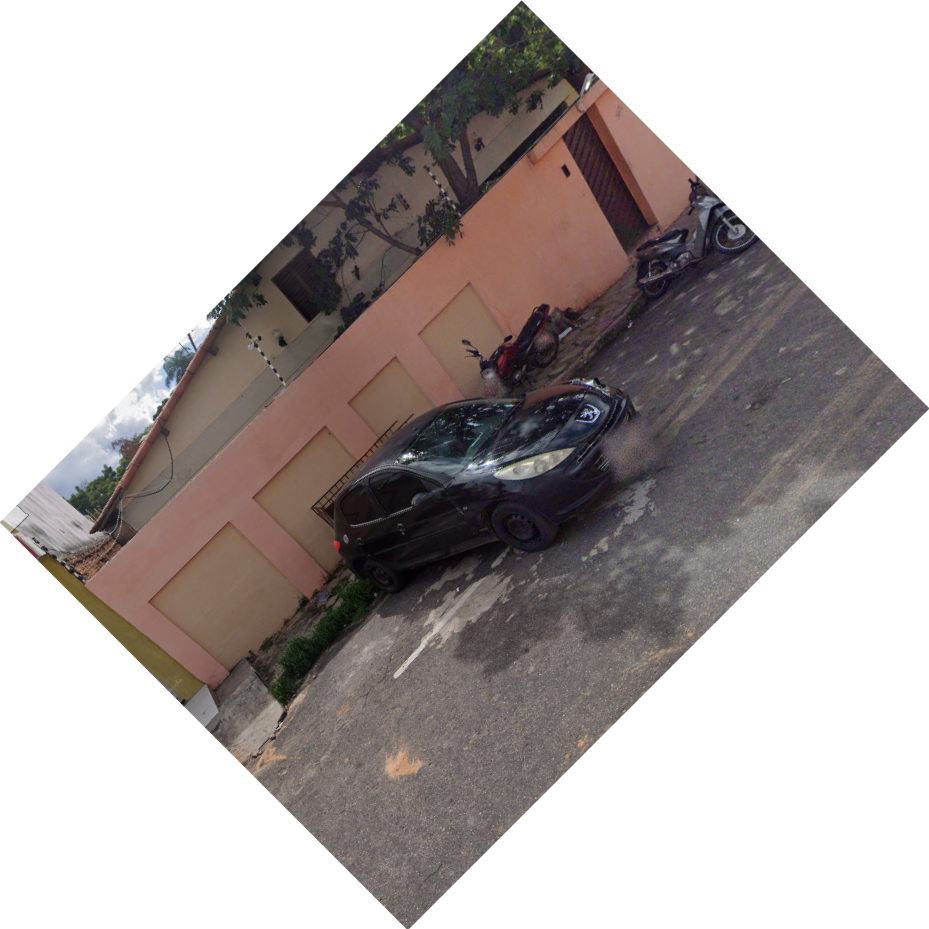car: (327, 371, 655, 592)
